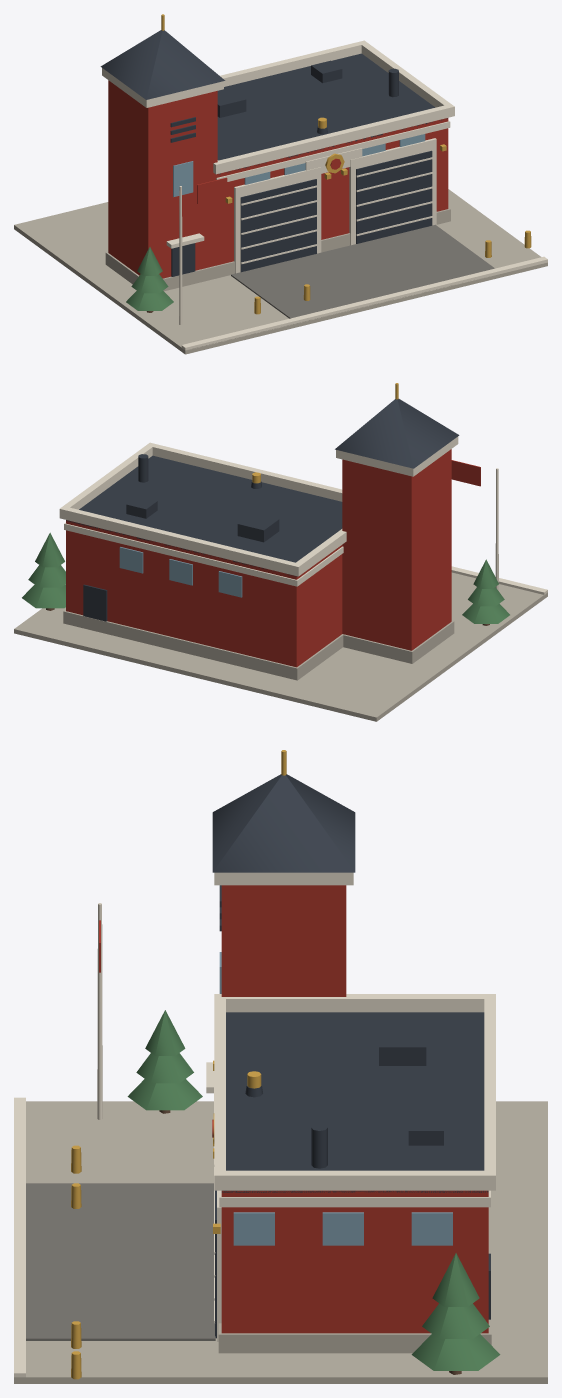
Rendered from firestation.glb.
3 renders of one model, top to bottom at view 1: azimuth 30°, elevation 25°; view 2: azimuth 150°, elevation 25°; view 3: azimuth 270°, elevation 25°, orthographic. The views are drawn at different scales.
Parts seen in each view (by area): view 1: apron, tower, driveway, hall_roof, hall, bay_door_0, bay_door_1, tower_roof, parapet_front, curb_front, bay_frame_0, bay_frame_1 (+16 smaller); view 2: hall, tower, apron, hall_roof, tower_roof, hall_base_course, parapet_back, parapet_front, cornice_band, tower_base_course, parapet_east, tower_cornice (+15 smaller); view 3: apron, hall_roof, driveway, hall, tower, tower_roof, parapet_east, hall_base_course, parapet_west, curb_front, cornice_band, parapet_back (+14 smaller).
Boxes of the visible parts, x1,y1,x2,y2 form: apron: (14,189,547,354); tower: (108,80,217,278); driveway: (231,224,494,318); hall_roof: (217,53,447,174); hall: (217,118,448,264); bay_door_0: (240,179,316,272); bay_door_1: (356,150,432,243); tower_roof: (100,30,225,99); parapet_front: (213,104,454,174); curb_front: (181,256,547,350); bay_frame_0: (234,167,321,273); bay_frame_1: (349,138,436,245); hall: (66,520,342,667); tower: (342,449,451,650); apron: (14,572,547,721); hall_roof: (66,455,342,576); tower_roof: (335,399,459,468); hall_base_course: (63,610,343,680); parapet_back: (59,506,301,576); parapet_front: (146,442,342,501); cornice_band: (64,522,343,586); tower_base_course: (343,621,454,663); parapet_east: (60,443,152,518); tower_cornice: (336,436,458,476); apron: (14,1101,547,1383); hall_roof: (221,1012,488,1192); driveway: (26,1183,215,1340); hall: (221,1190,488,1333); tower: (221,885,346,996); tower_roof: (212,774,355,872); parapet_east: (214,1170,495,1190); hall_base_course: (218,1190,491,1353); parapet_west: (214,994,495,1012); curb_front: (14,1097,25,1377); cornice_band: (219,1190,490,1207); parapet_back: (484,994,495,1190).
Size of the model in its own units: 23.2 by 15.1 by 18.
